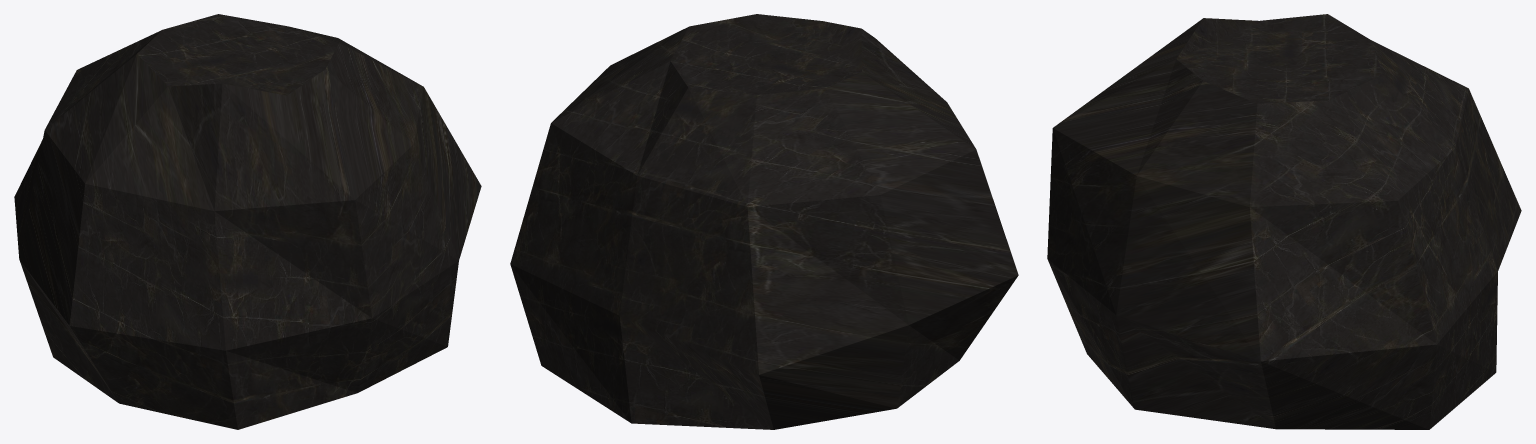
The model's file is area4-basalt-a.glb.
The picture shows the model from 3 angles, left to right: view 1: azimuth 30°, elevation 25°; view 2: azimuth 150°, elevation 25°; view 3: azimuth 270°, elevation 25°; orthographic projection. The views are drawn at different scales.
Parts seen in each view (by area): view 1: A04_Fractured_Basalt_A; view 2: A04_Fractured_Basalt_A; view 3: A04_Fractured_Basalt_A.
Boxes of the visible parts, <box> form: A04_Fractured_Basalt_A: <box>14,14,481,429</box>; A04_Fractured_Basalt_A: <box>510,14,1018,429</box>; A04_Fractured_Basalt_A: <box>1047,14,1521,429</box>.
Size of the model in its own units: 1.9 by 1.25 by 1.72.
1 material, 1 textured.
